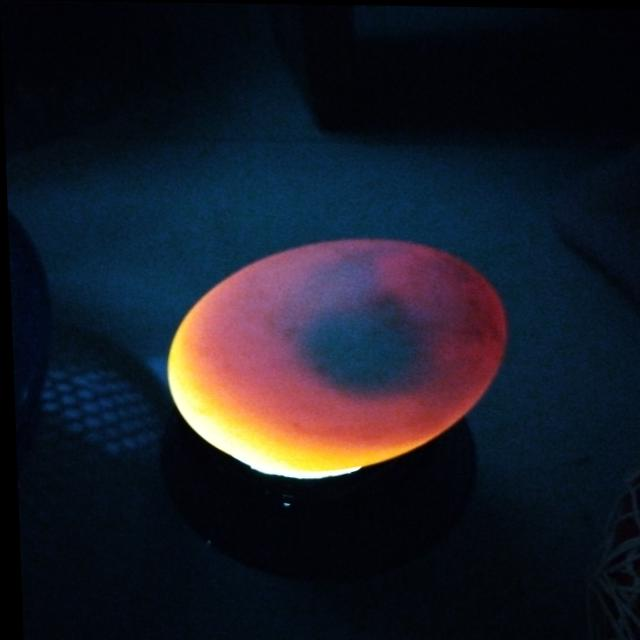Area Infectada: (267, 244, 491, 401)
